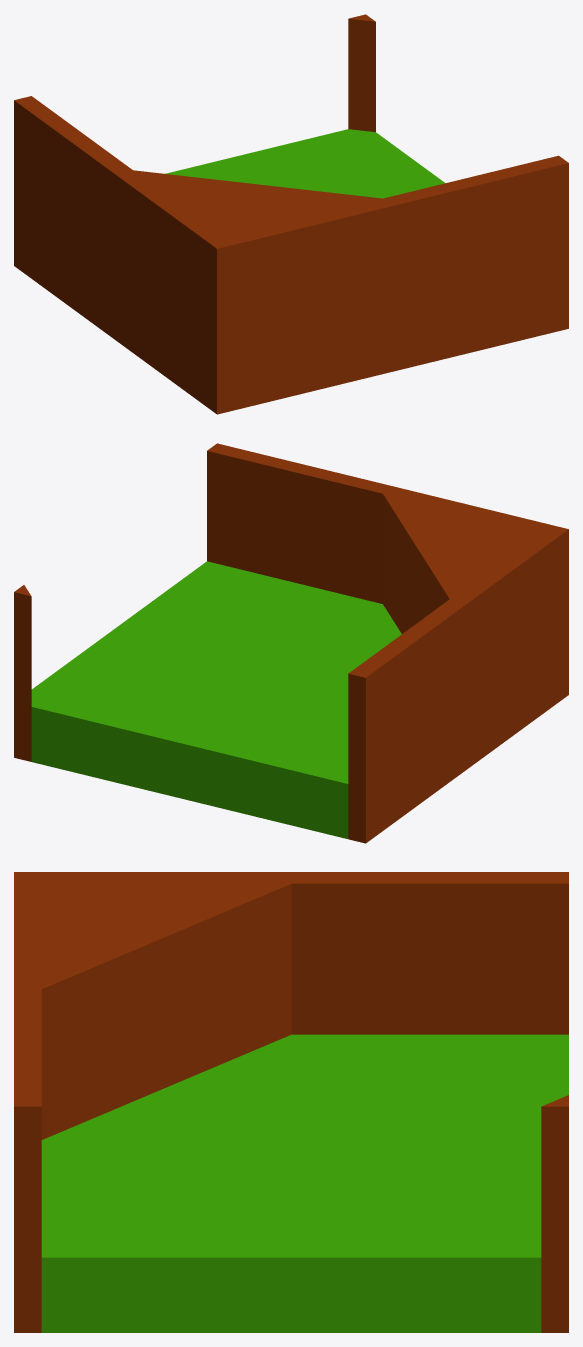
The model's file is turn_narrow.fbx.
3 renders of one model, top to bottom at view 1: azimuth 30°, elevation 25°; view 2: azimuth 150°, elevation 25°; view 3: azimuth 270°, elevation 25°, orthographic. The views are drawn at different scales.
Visible parts, largest first — view 1: Plane; view 2: Plane; view 3: Plane.
Boxes of the visible parts, x1=… form: Plane: x1=14, y1=14, x2=568, y2=414; Plane: x1=14, y1=443, x2=568, y2=843; Plane: x1=14, y1=872, x2=568, y2=1332.
Bounding box in the file's own units: 200 × 90 × 200.
